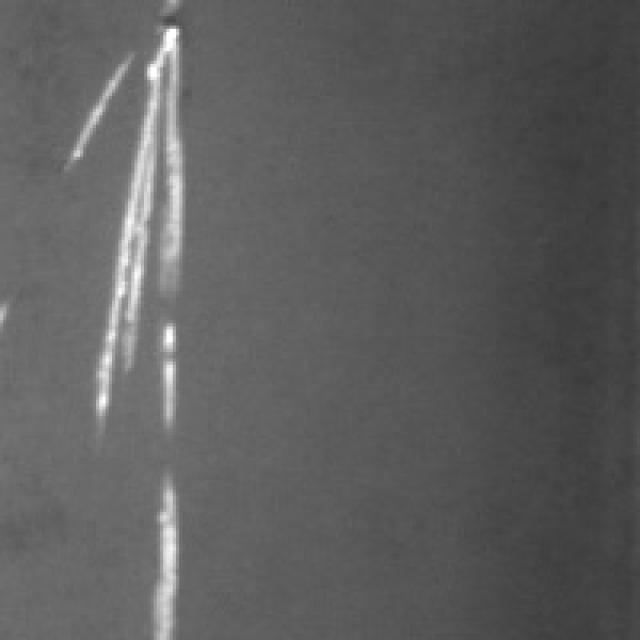scratches: (57, 0, 188, 422), (128, 474, 186, 634)
